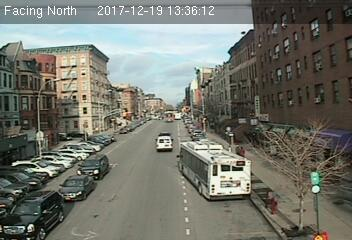bus: (179, 140, 253, 200)
car: (1, 187, 65, 239), (55, 171, 96, 202), (77, 153, 110, 179)
truck: (155, 136, 172, 150)
